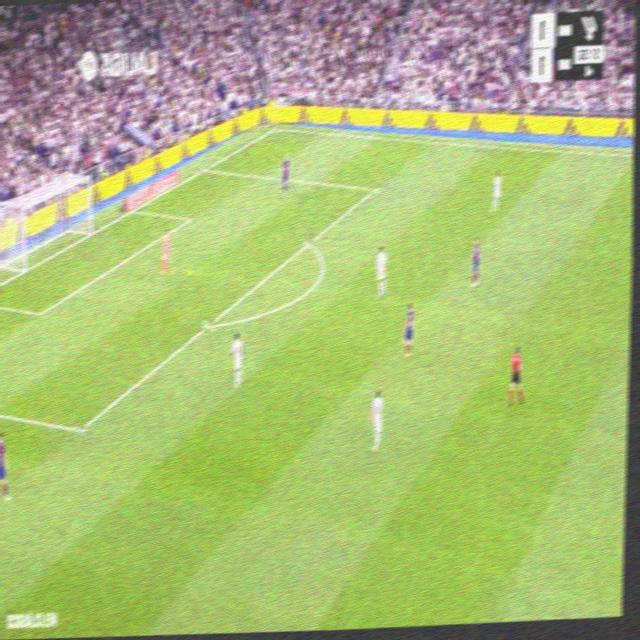bigarea_bottom_inner: (72, 414, 86, 443)
bigarea_top_inner: (369, 179, 379, 197)
bigarea_top_outter: (200, 161, 209, 175)
bottom_arc_area_intersection: (201, 315, 214, 334)
smallarea_top_inner: (185, 210, 195, 225)
top_arc_area_intersection: (303, 233, 313, 251)
